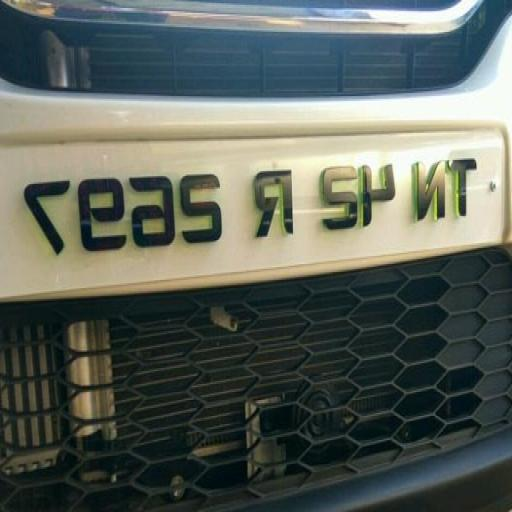License: (1, 124, 506, 298)
